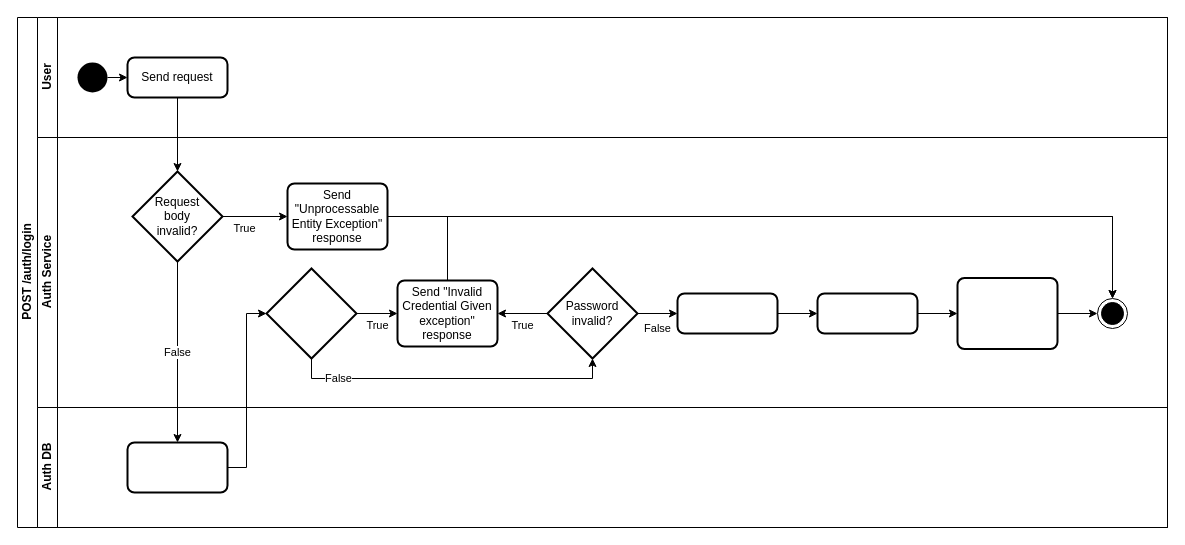
Image size: 1185x545. Some labels were removed from this diagram. The centre of each missing label's shape, as x and y in pixels:
Attach token to cookie: [867,313]
Generate token: [727,313]
Retrieve user data by provided username: [177,467]
Send "200" response with generated token in body: [1007,313]
User not found?: [311,313]
